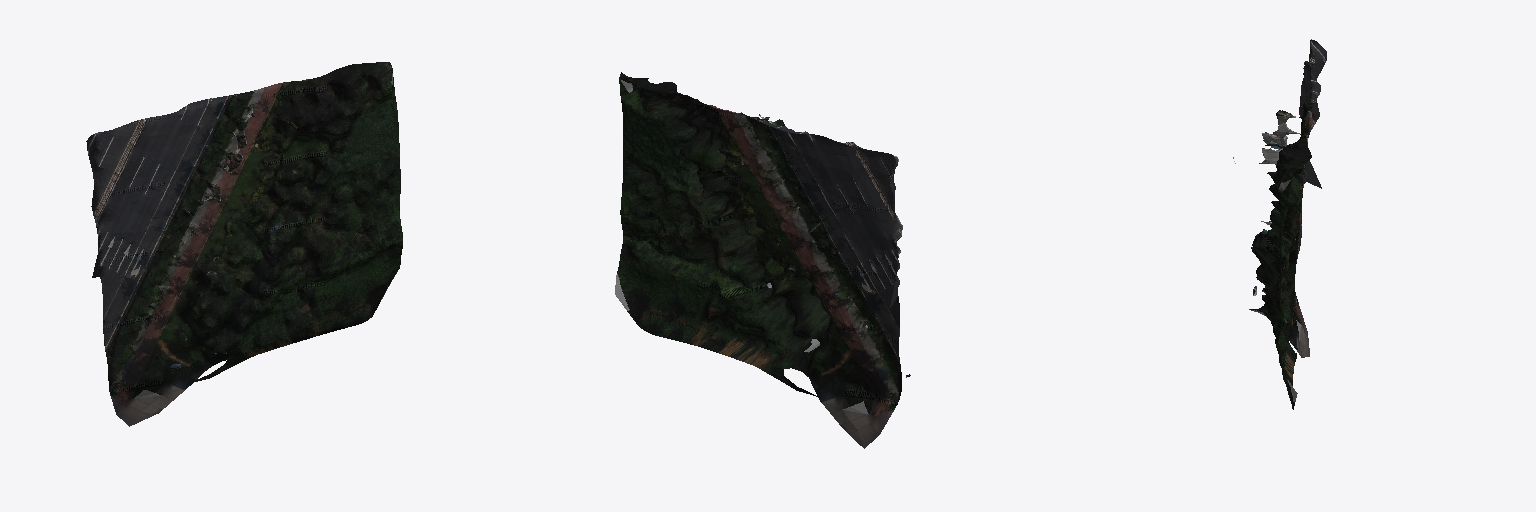
3 renders of one model, left to right at view 1: azimuth 30°, elevation 25°; view 2: azimuth 150°, elevation 25°; view 3: azimuth 270°, elevation 25°, orthographic.
Visible parts, largest first — view 1: Mesh; view 2: Mesh; view 3: Mesh.
Boxes of the visible parts, x1,y1,x2,y2 form: Mesh: [86, 62, 402, 426]; Mesh: [615, 72, 910, 448]; Mesh: [1233, 39, 1326, 409].
Bounding box in the file's own units: 61.24 × 61.38 × 16.84.
Materials: 1 (1 with a texture image).